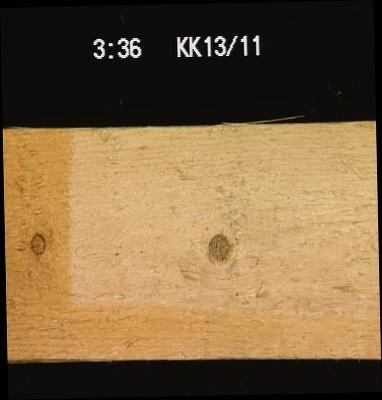dry_knot: (27, 231, 46, 255)
sound_knot: (206, 231, 230, 263)
